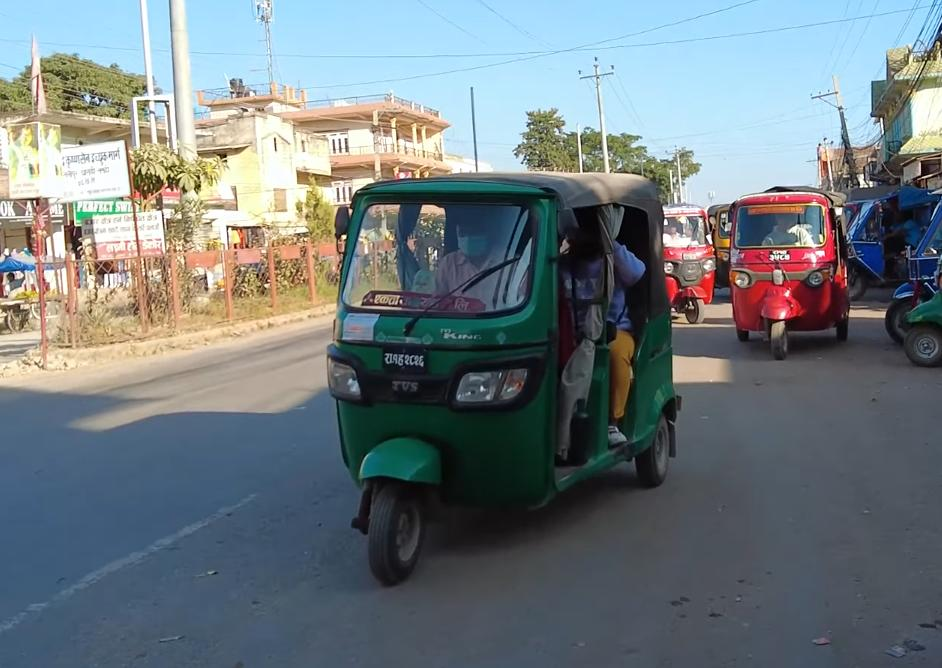auto_rickshaw: (325, 166, 693, 588), (722, 184, 855, 363), (656, 204, 715, 330)
